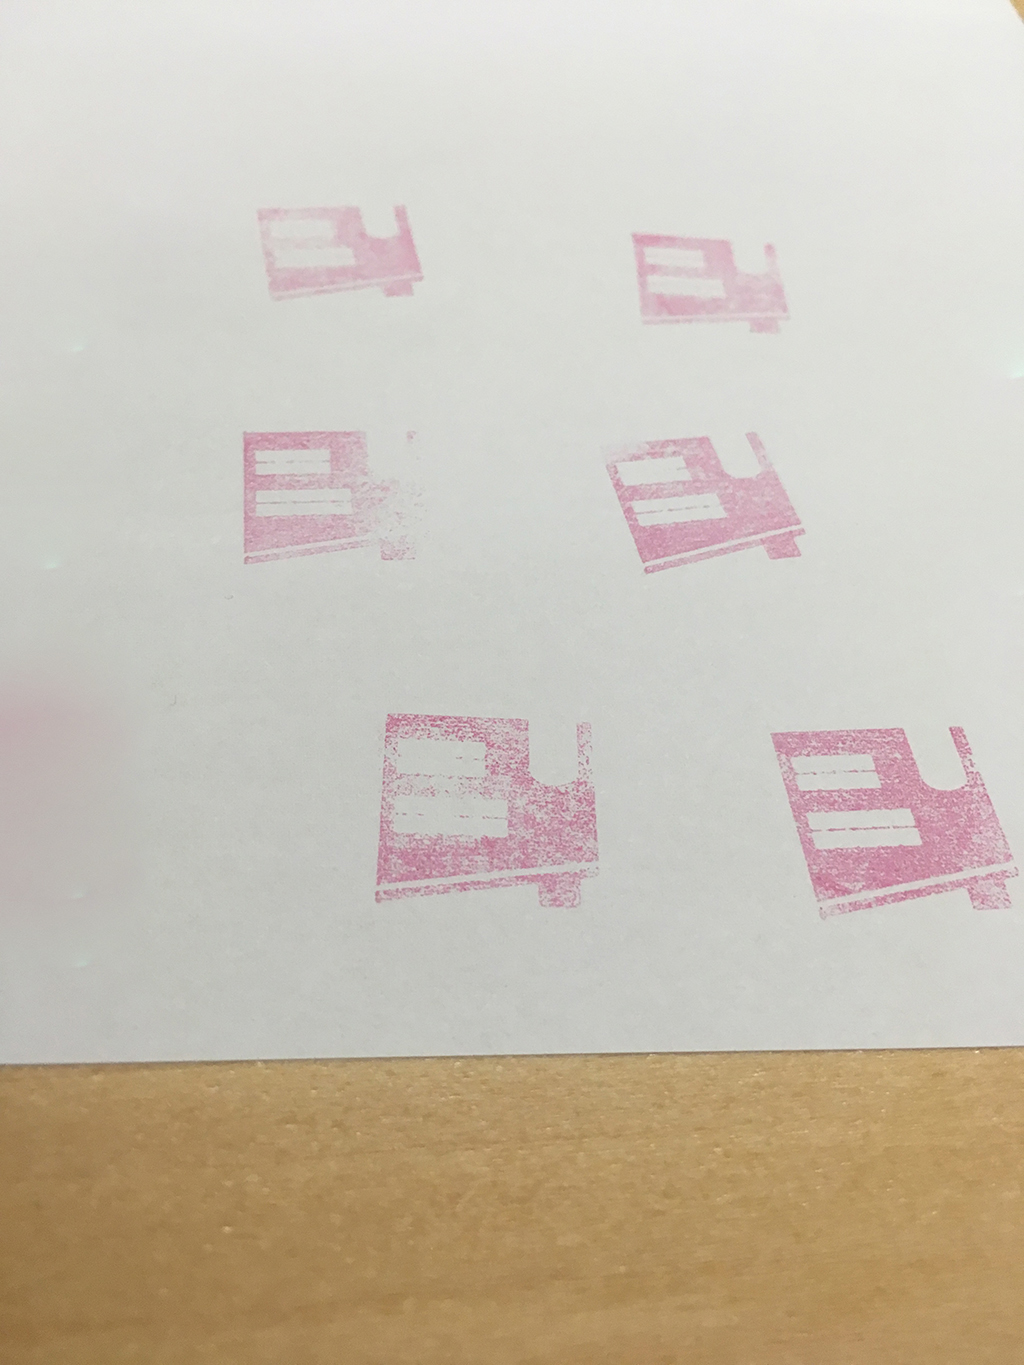house: (356, 693, 623, 927), (760, 700, 1024, 924), (581, 416, 827, 592), (225, 412, 444, 581), (614, 212, 814, 344), (234, 189, 436, 315)
